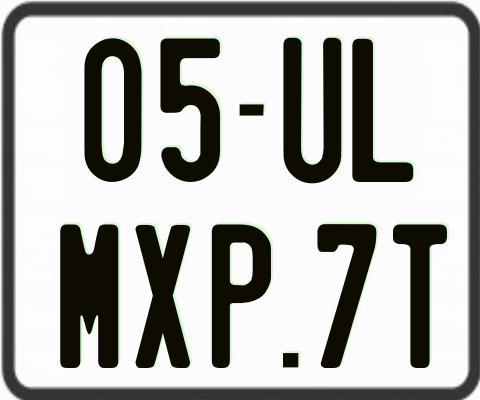0: (81, 38, 145, 183)
5: (160, 35, 223, 180)
7: (314, 222, 375, 366)
L: (349, 38, 410, 186)
M: (60, 224, 122, 371)
P: (210, 222, 273, 367)
T: (392, 222, 448, 372)
U: (282, 36, 345, 187)
X: (136, 225, 196, 369)
